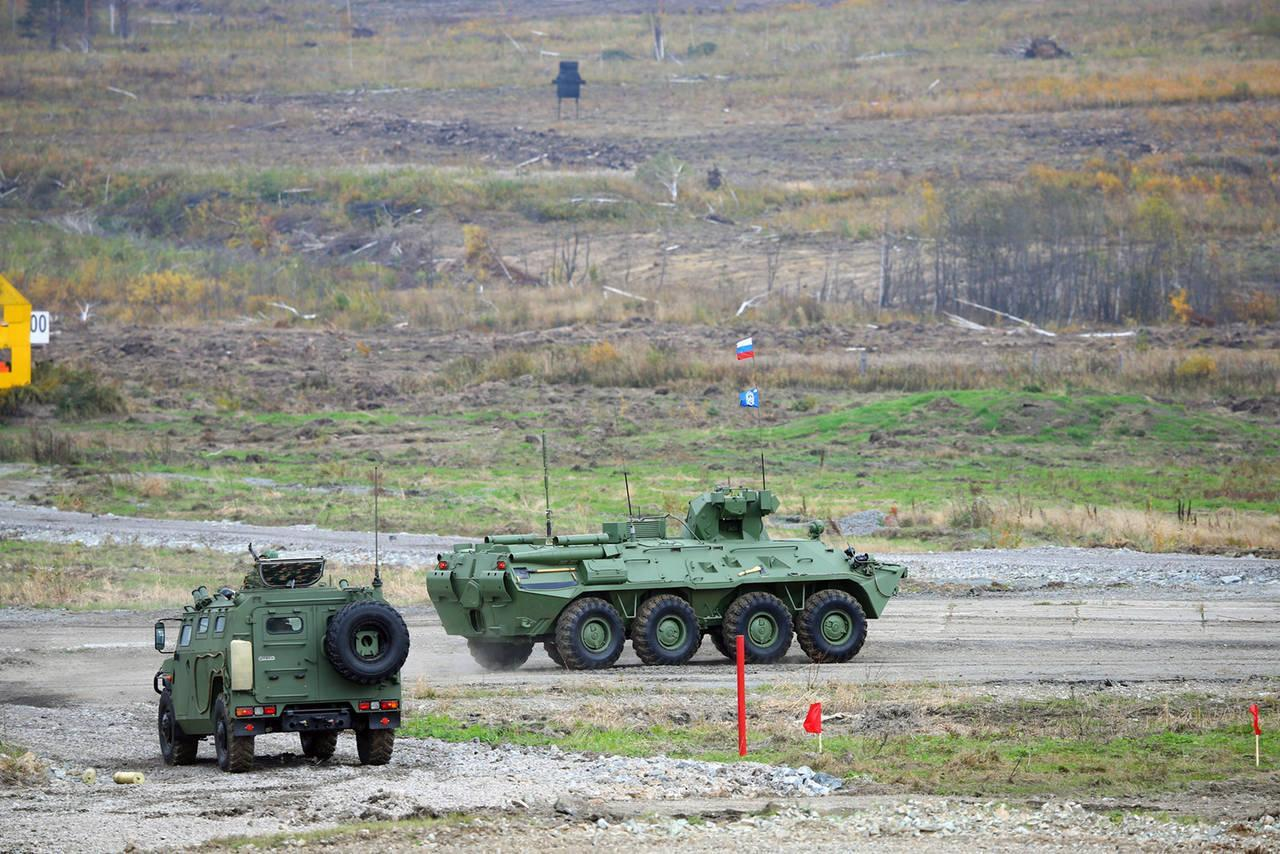armored_car: (153, 542, 412, 775)
tank: (425, 483, 910, 673)
